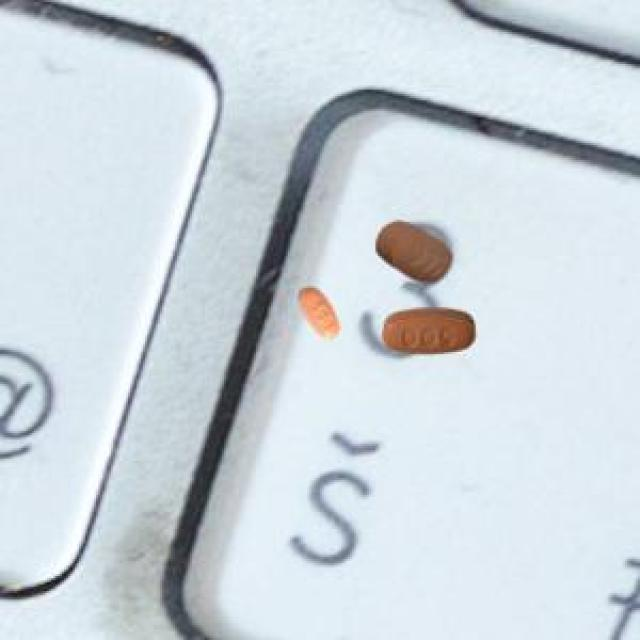Biogesic: (371, 205, 486, 372), (290, 274, 348, 362)
